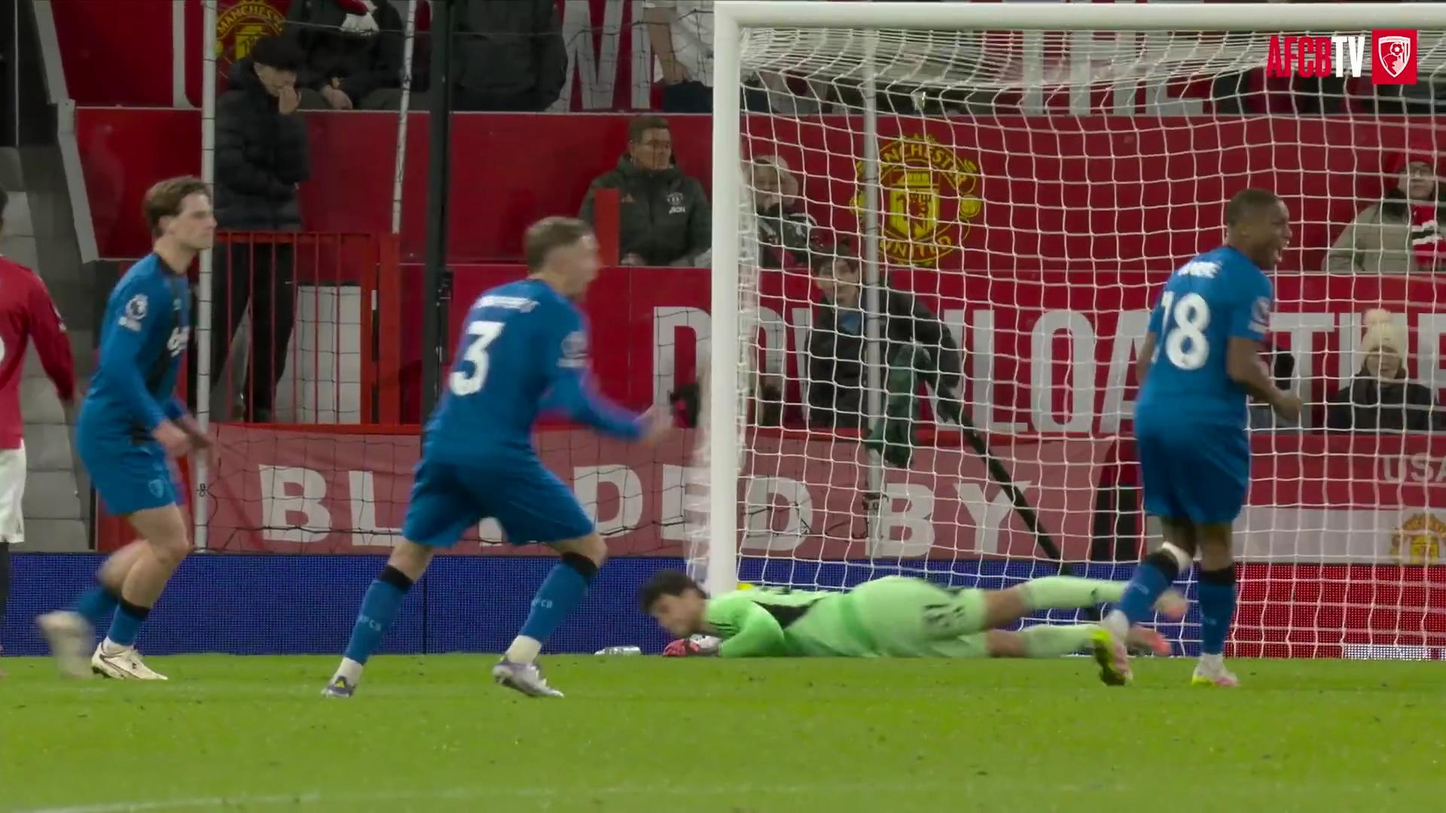player: (325, 217, 671, 696), (1103, 188, 1301, 686), (38, 177, 215, 680), (640, 570, 1125, 682), (0, 257, 75, 626)
